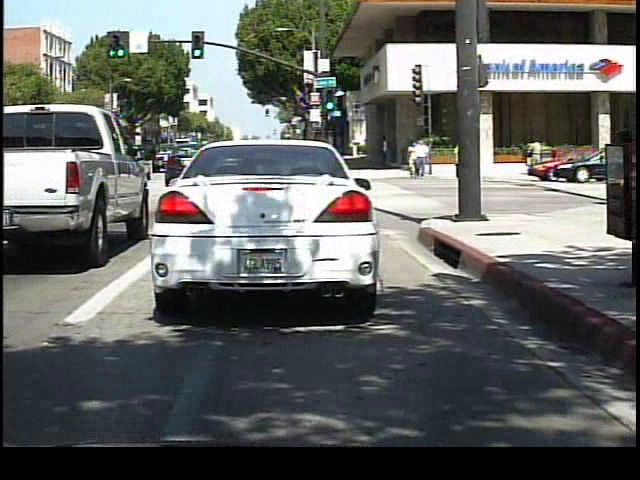person: (524, 135, 546, 176), (412, 136, 431, 180), (448, 136, 467, 179)
